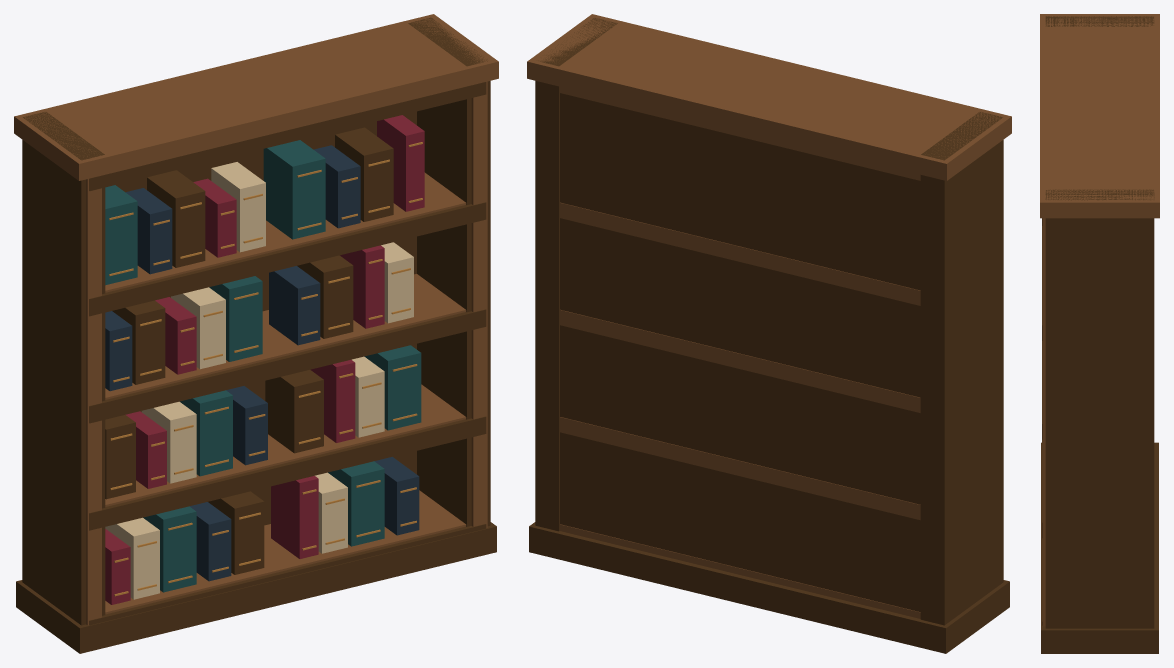
Rendered from mia-shelf.glb.
The picture shows the model from 3 angles, left to right: view 1: azimuth 30°, elevation 25°; view 2: azimuth 150°, elevation 25°; view 3: azimuth 270°, elevation 25°; orthographic projection. The views are drawn at different scales.
Parts seen in each view (by area): view 1: Body_wood, Body_oak, Body_teal, Body_velvet, Body_navy-seat, Body_ivory, Body_brass; view 2: Body_wood, Body_oak; view 3: Body_wood, Body_oak.
Boxes of the visible parts, x1,y1,x2,y2 form: Body_wood: (16, 17, 496, 653); Body_oak: (14, 14, 498, 625); Body_teal: (105, 140, 421, 592); Body_velvet: (105, 115, 424, 604); Body_navy-seat: (105, 145, 419, 581); Body_ivory: (105, 162, 413, 599); Body_brass: (109, 142, 422, 596); Body_wood: (529, 18, 1009, 653); Body_oak: (527, 14, 1011, 618); Body_wood: (1041, 16, 1158, 653); Body_oak: (1040, 14, 1159, 626).
Bounding box in the file's own units: 1.64 × 1.83 × 0.44.
